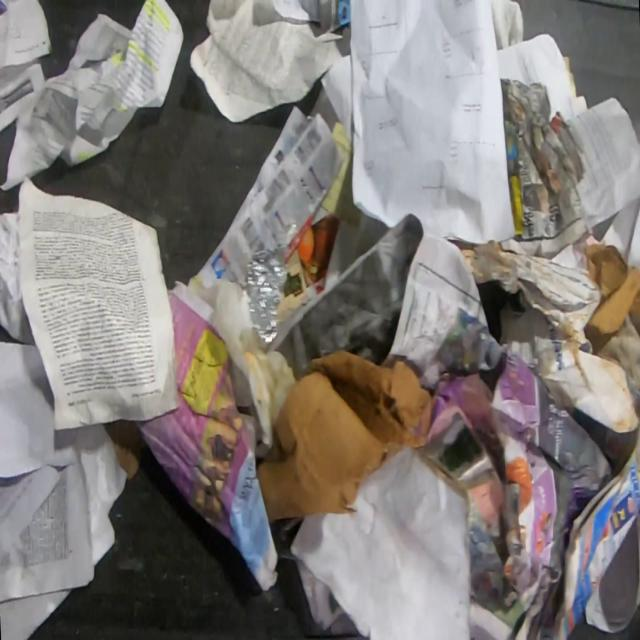cardboard: (288, 445, 473, 639), (255, 350, 435, 523), (583, 243, 639, 357)
soft_plastic: (239, 244, 293, 345)
